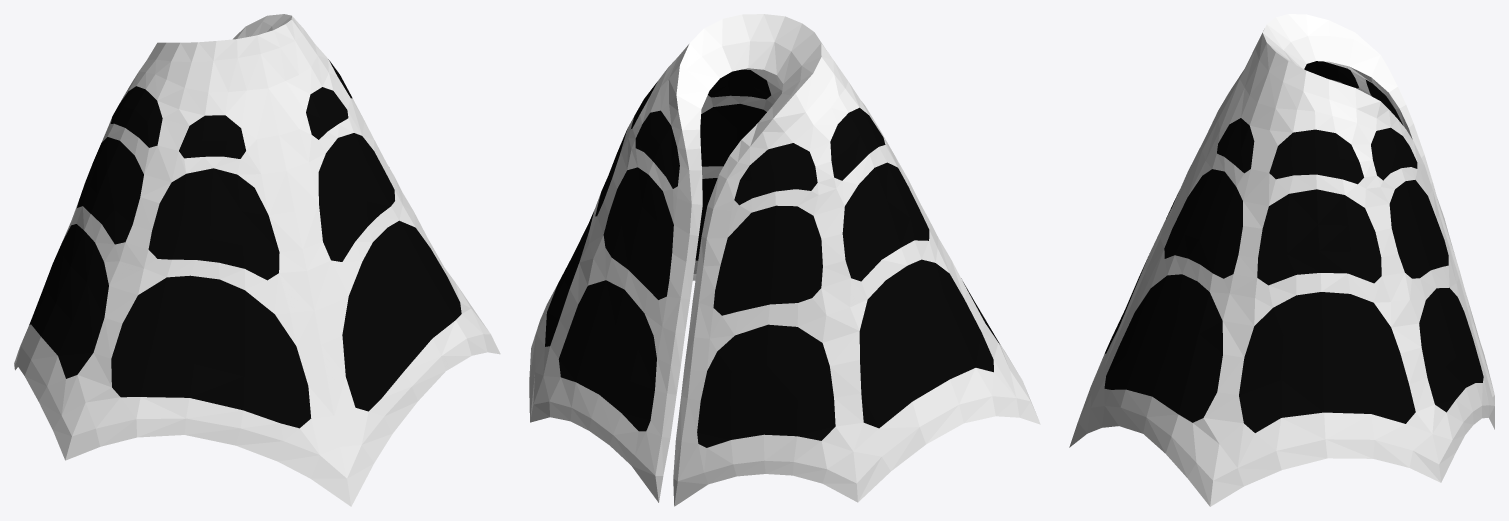
Rendered from CharSkyKid_Wing_Cobweb.glb.
The picture shows the model from 3 angles, left to right: view 1: azimuth 30°, elevation 25°; view 2: azimuth 150°, elevation 25°; view 3: azimuth 270°, elevation 25°; orthographic projection. The views are drawn at different scales.
Parts seen in each view (by area): view 1: CharSkyKid_Wing_Cobweb; view 2: CharSkyKid_Wing_Cobweb; view 3: CharSkyKid_Wing_Cobweb.
Boxes of the visible parts, x1,y1,x2,y2 form: CharSkyKid_Wing_Cobweb: (14, 14, 500, 506); CharSkyKid_Wing_Cobweb: (529, 14, 1040, 506); CharSkyKid_Wing_Cobweb: (1069, 14, 1494, 506).
Bounding box in the file's own units: 7.84 × 6.93 × 6.44.
Materials: 1 (1 with a texture image).
